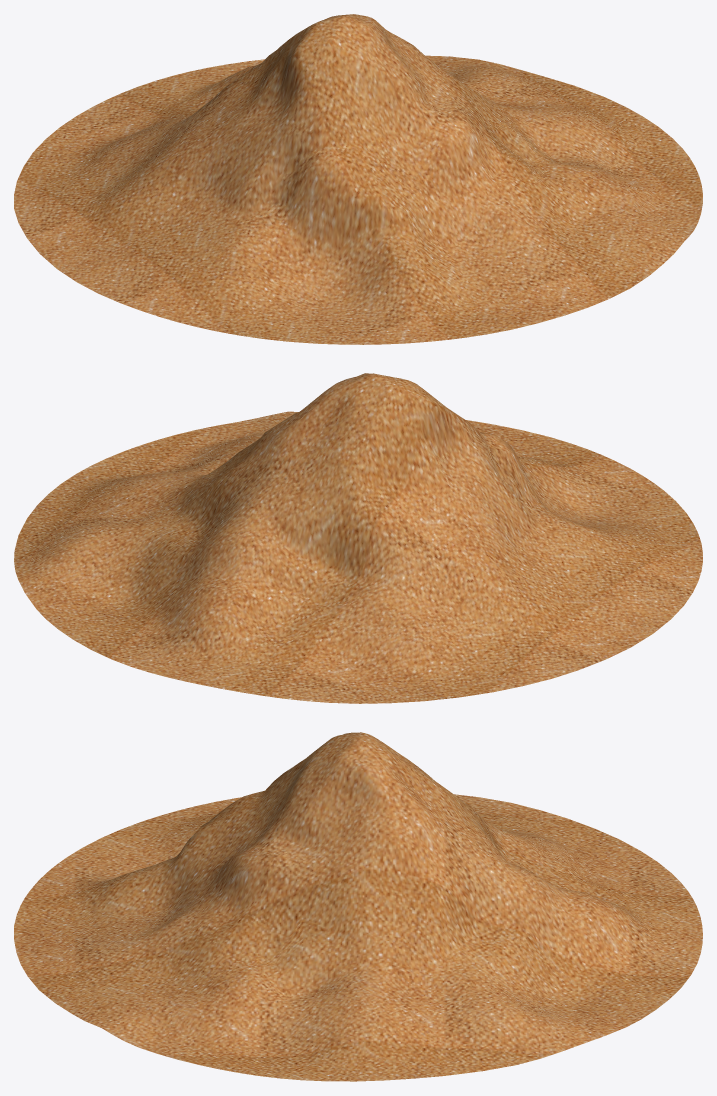
The model's file is brownSugar.fbx.
3 views of the same model, one above another, from view 1: azimuth 30°, elevation 25°; view 2: azimuth 150°, elevation 25°; view 3: azimuth 270°, elevation 25° (orthographic).
Parts seen in each view (by area): view 1: brownSugar; view 2: brownSugar; view 3: brownSugar.
Boxes of the visible parts, <box> form: brownSugar: <box>14,14,702,344</box>; brownSugar: <box>14,373,702,703</box>; brownSugar: <box>14,732,702,1081</box>.
Bounding box in the file's own units: 21.1 × 6.36 × 21.01.
1 material, 1 textured.
